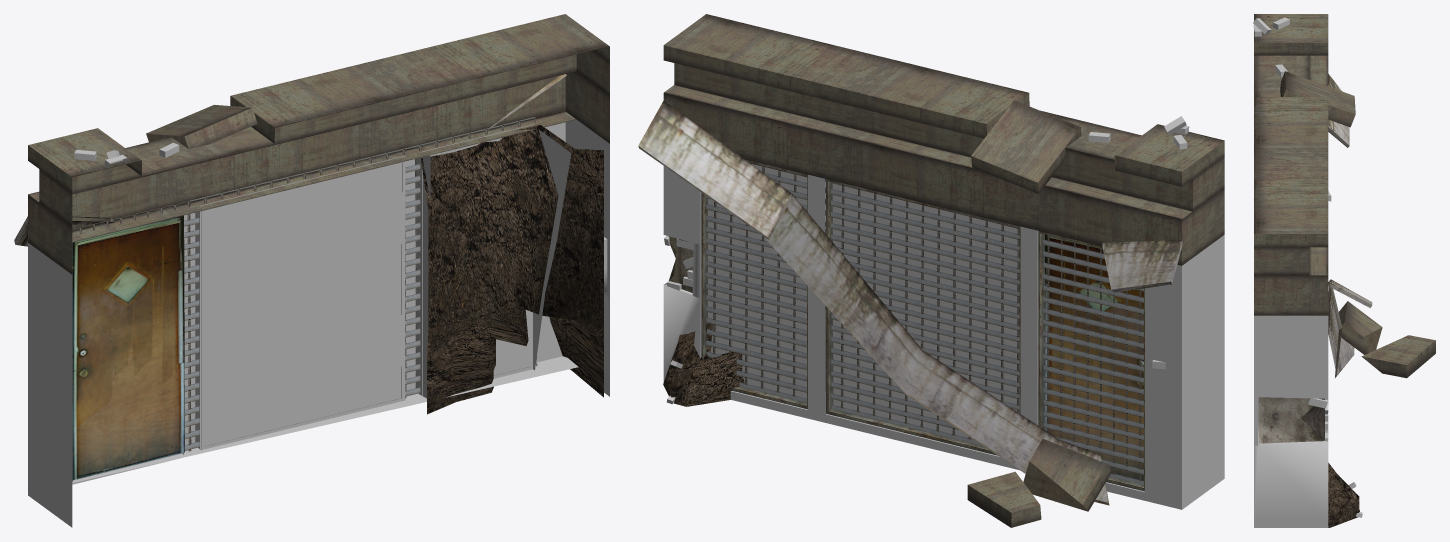
Rendered from Store_front_8_A.fbx.
The picture shows the model from 3 angles, left to right: view 1: azimuth 30°, elevation 25°; view 2: azimuth 150°, elevation 25°; view 3: azimuth 270°, elevation 25°; orthographic projection. The views are drawn at different scales.
Visible parts, largest first — view 1: Store_front_8_A; view 2: Store_front_8_A; view 3: Store_front_8_A.
Boxes of the visible parts, left/top/right/bottom form: Store_front_8_A: left=14, top=14, right=609, bottom=527; Store_front_8_A: left=638, top=14, right=1224, bottom=527; Store_front_8_A: left=1253, top=14, right=1435, bottom=527.
Size of the model in its own units: 702 by 456 by 246.
